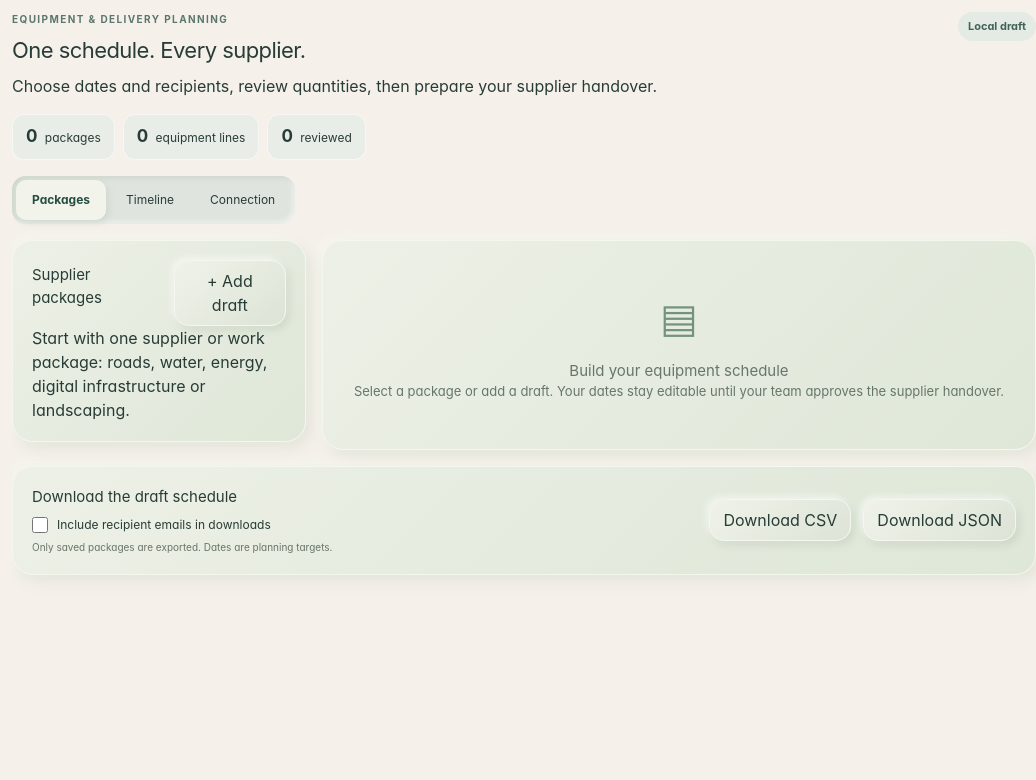
Scenario: City ordering dashboard › isolates public demo drafts from private supplier names and recipients
The image size is (1036, 780).
Click the button "Connection": (243, 200) [194, 180, 291, 220]
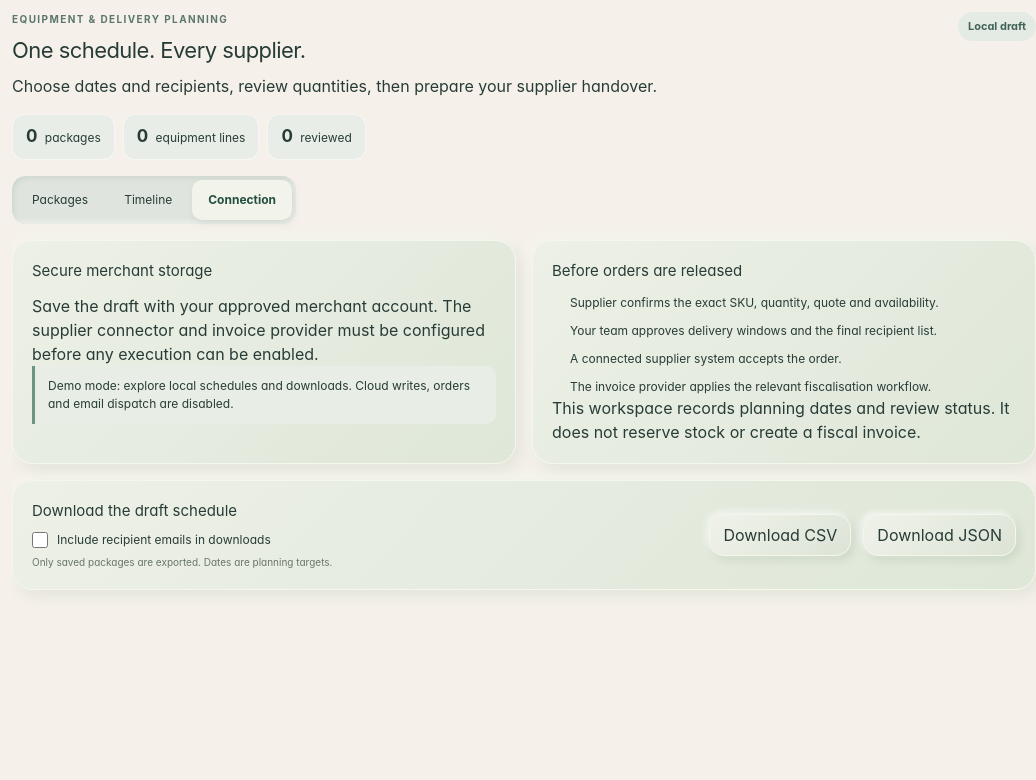
Expected: the text "Cloud writes, orders and email dispatch are disabled" is shown, [48, 378, 470, 411]
